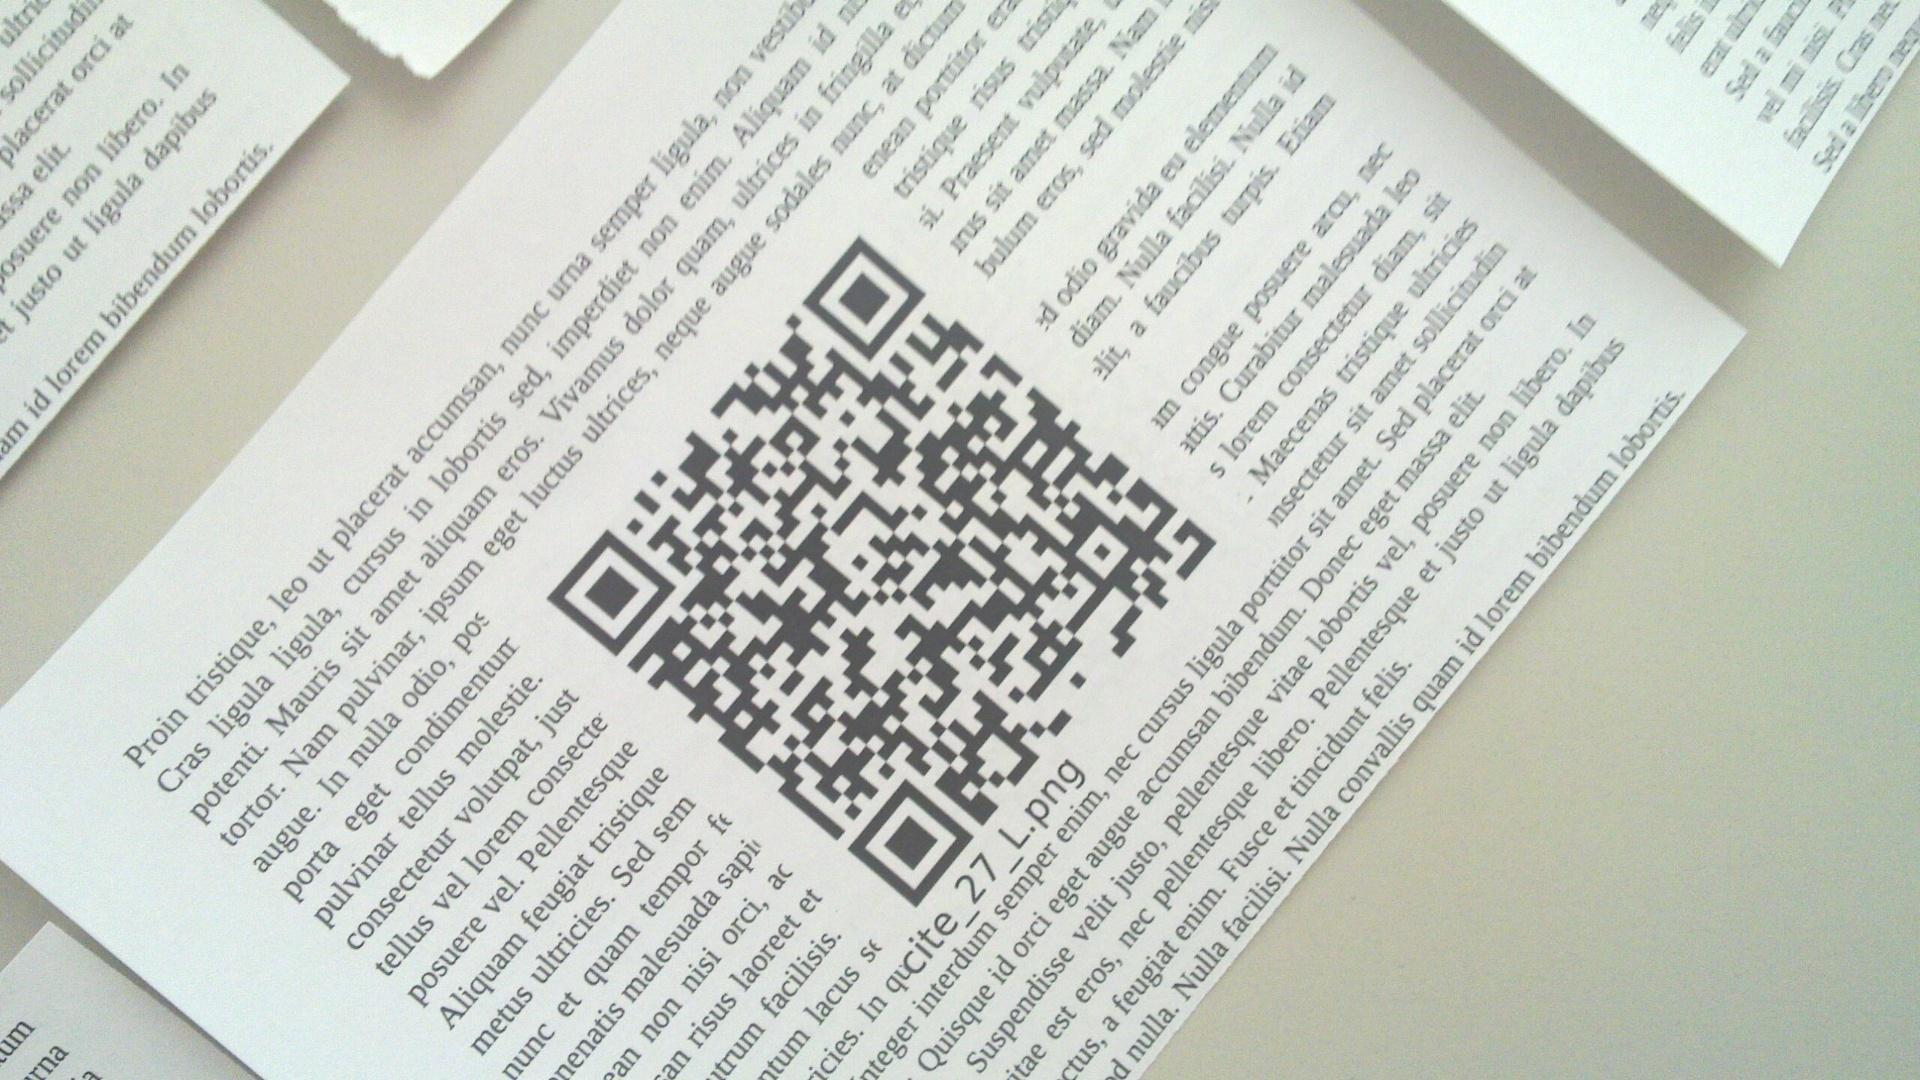Finder pattern: (845, 781, 973, 906), (795, 241, 927, 360), (549, 535, 673, 651)
